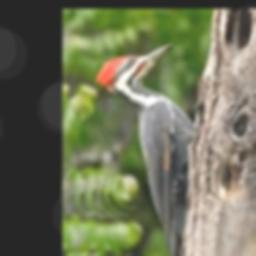Woodpecker: (96, 43, 197, 256)
